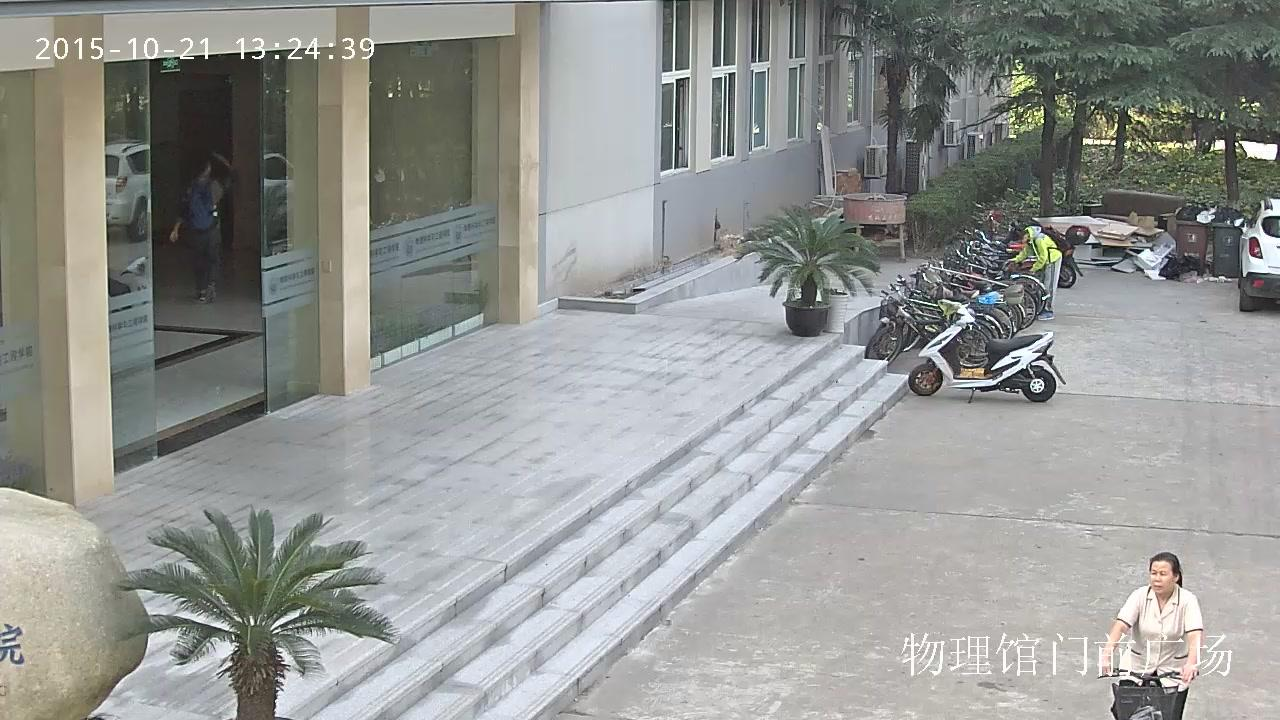person: (1095, 551, 1203, 720), (1098, 552, 1202, 720), (168, 159, 223, 304), (1008, 226, 1061, 320)
